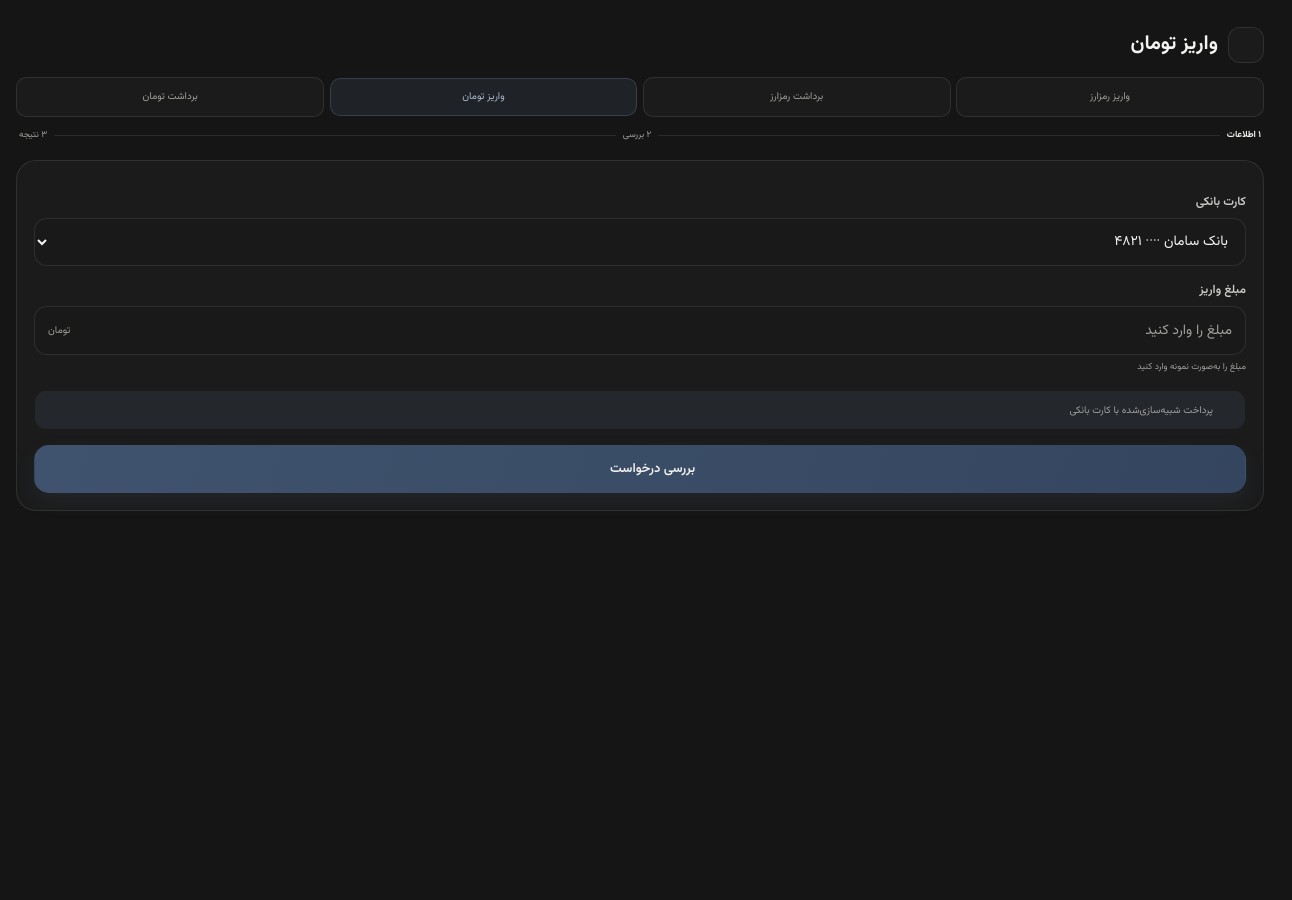
Test case: wallet UI interactions › simulates a Toman deposit to the selected sample card
In the field labelled "مبلغ واریز": (656, 330) [80, 320, 1232, 342], type "۵۰۰۰۰۰۰"
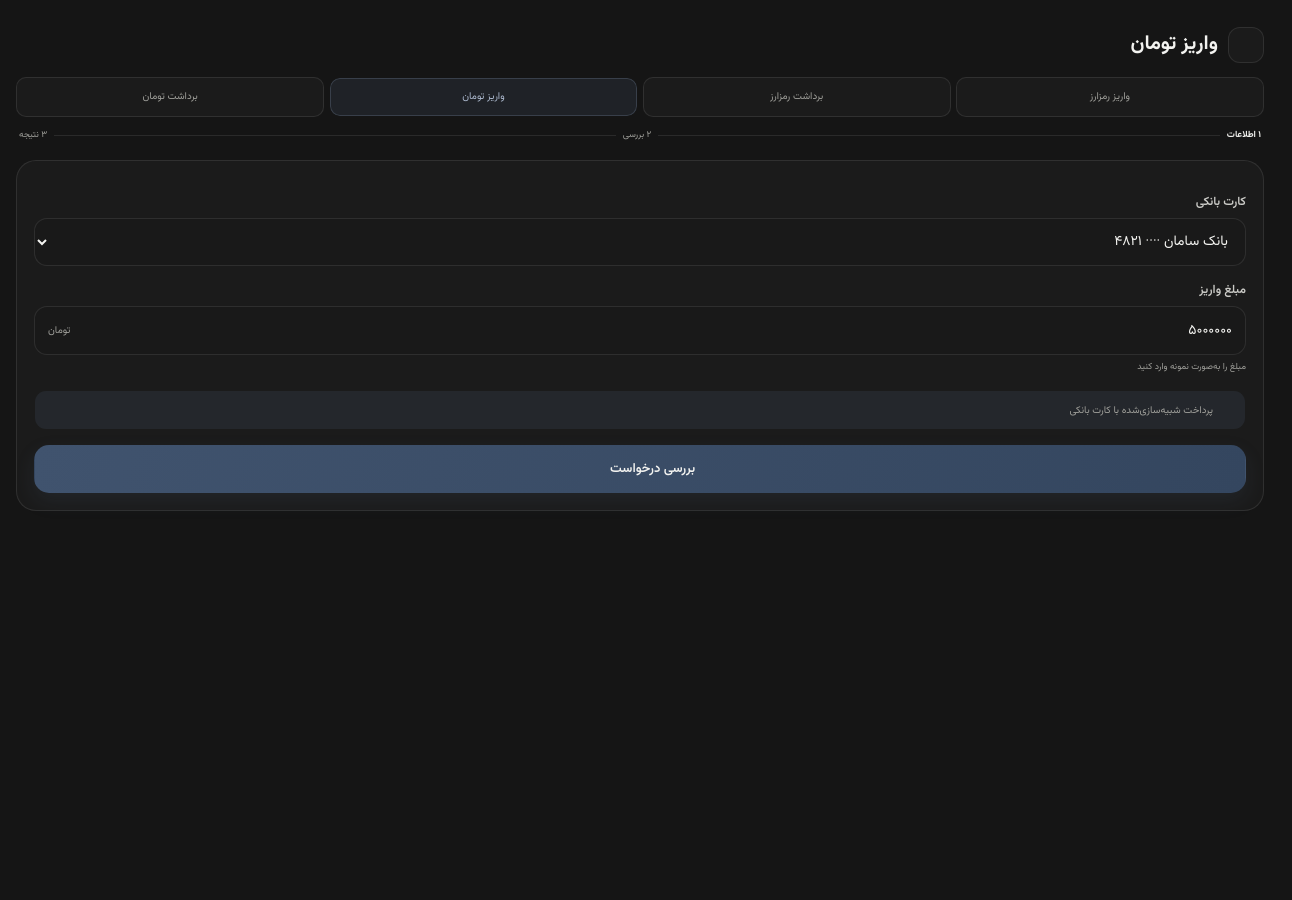
Click the button "بررسی درخواست": (640, 469) [34, 445, 1246, 493]
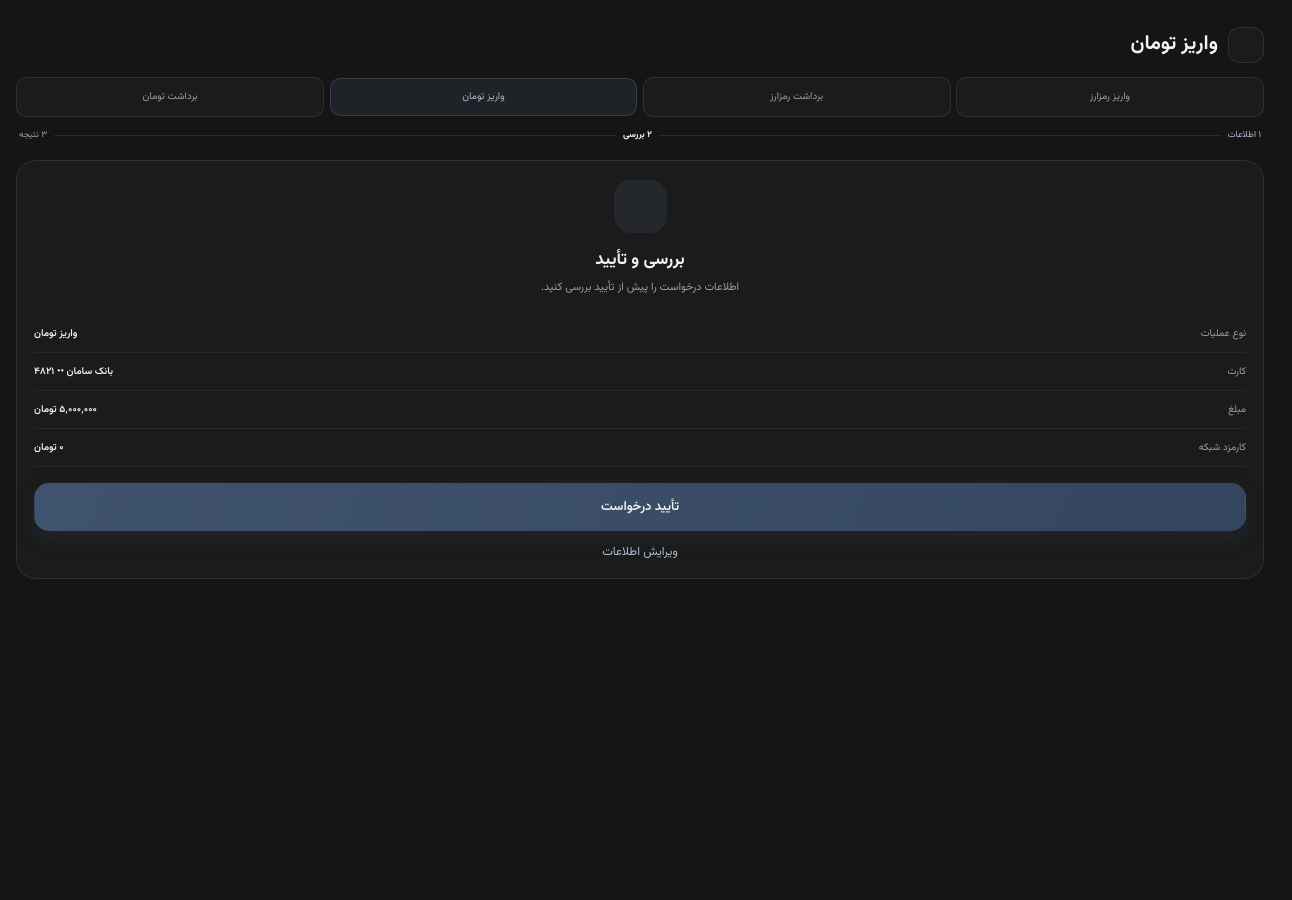
Click the button "تأیید درخواست": (640, 507) [34, 483, 1246, 531]
(page scrolled)
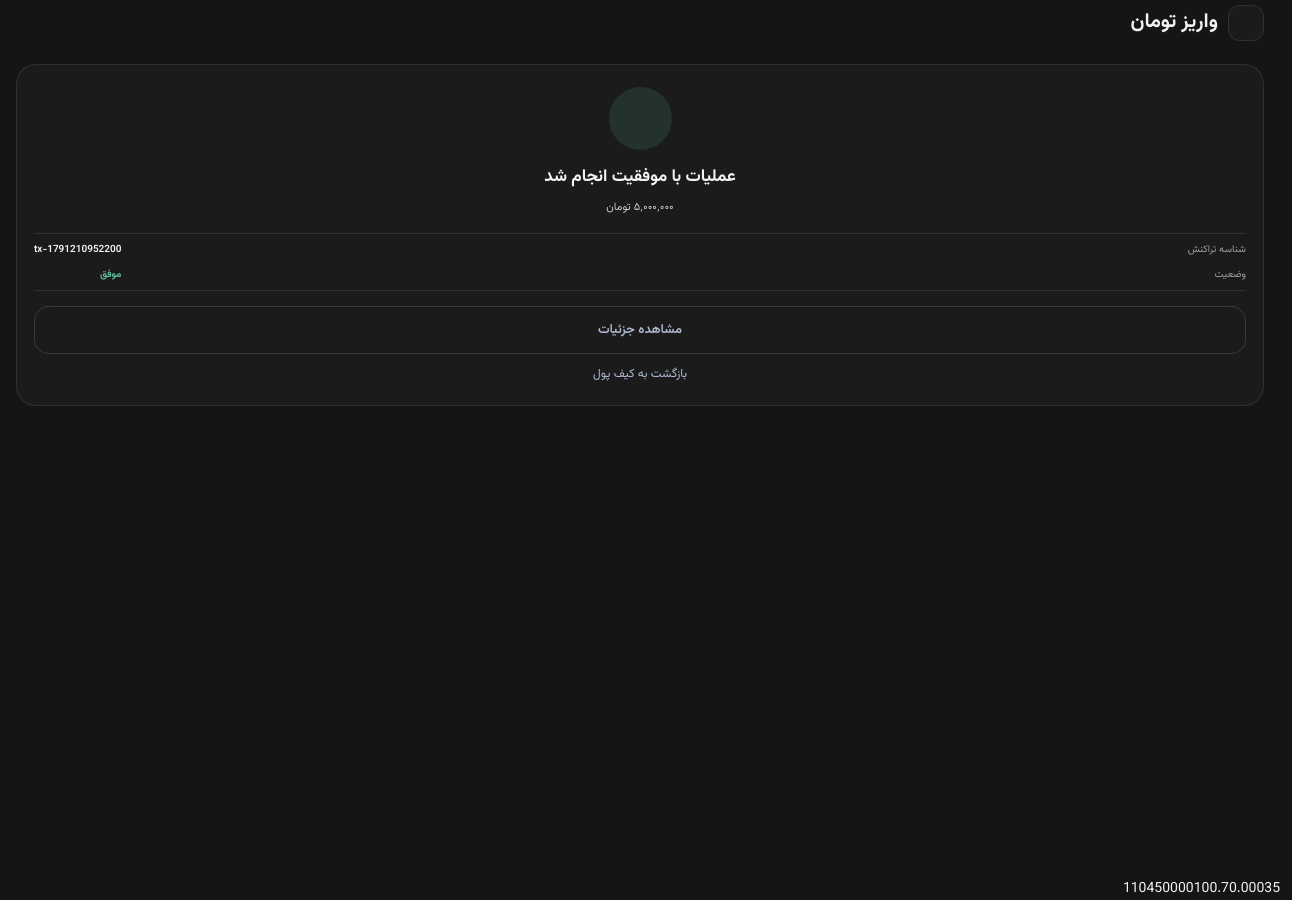
Check: the heading "عملیات با موفقیت انجام شد" is shown, box [544, 164, 736, 190]
Check: the text named "Toman balance" reads "110450000", box [1123, 878, 1194, 899]
